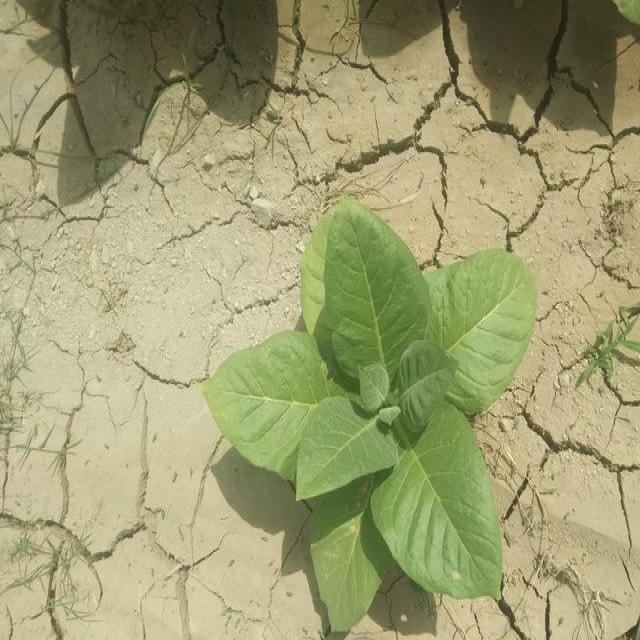crop: (194, 207, 538, 620)
